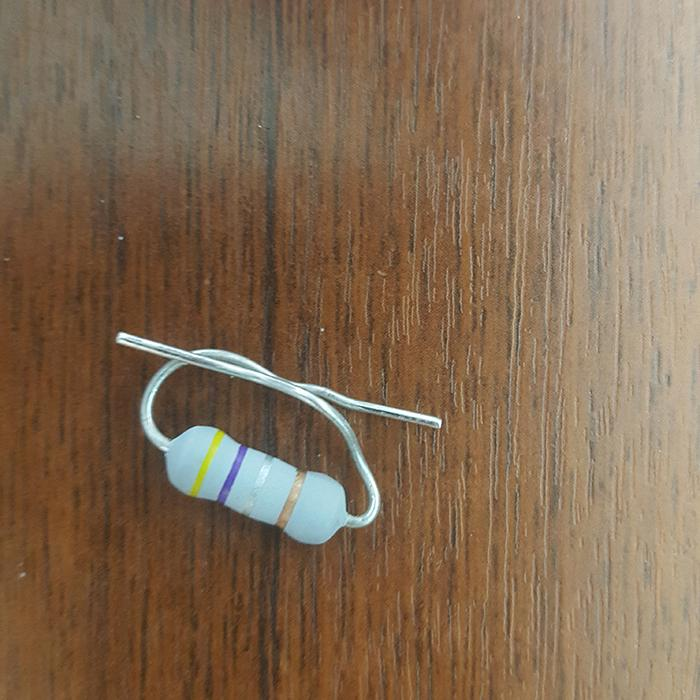resistor: (161, 423, 351, 544)
